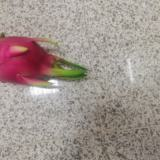pitaya: (1, 33, 89, 88)
